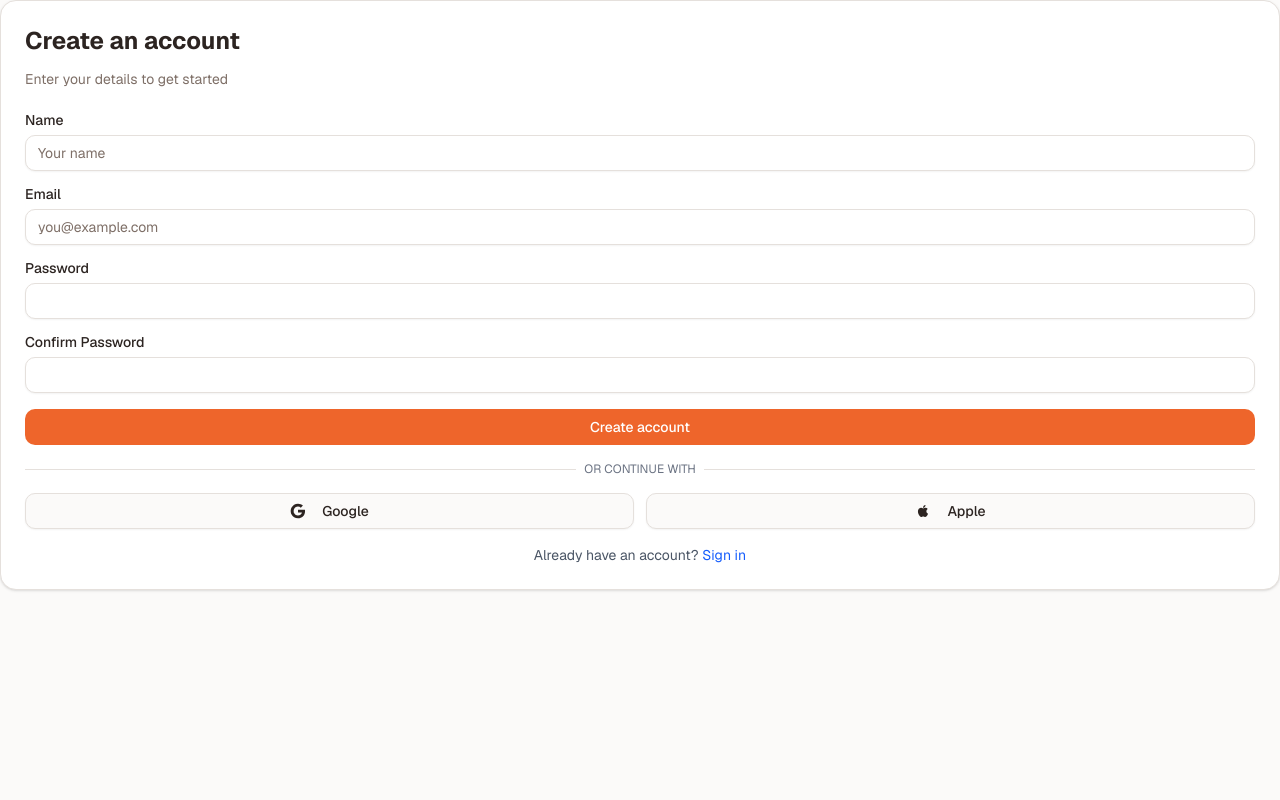
Test: RegisterPage › validates passwords match
In the field labelled "Name": (640, 153) [25,135,1255,171], type "Test User"
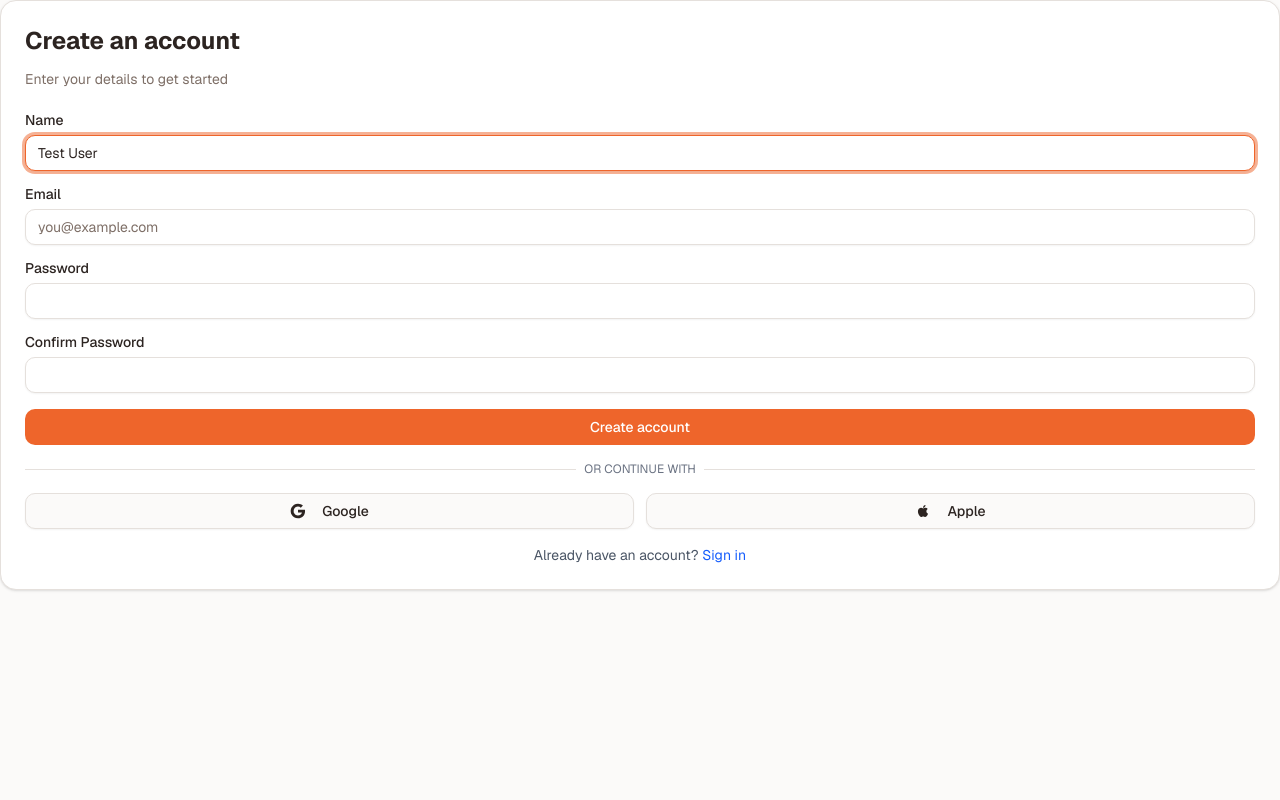
In the field labelled "Email": (640, 227) [25,209,1255,245], type "test@example.com"
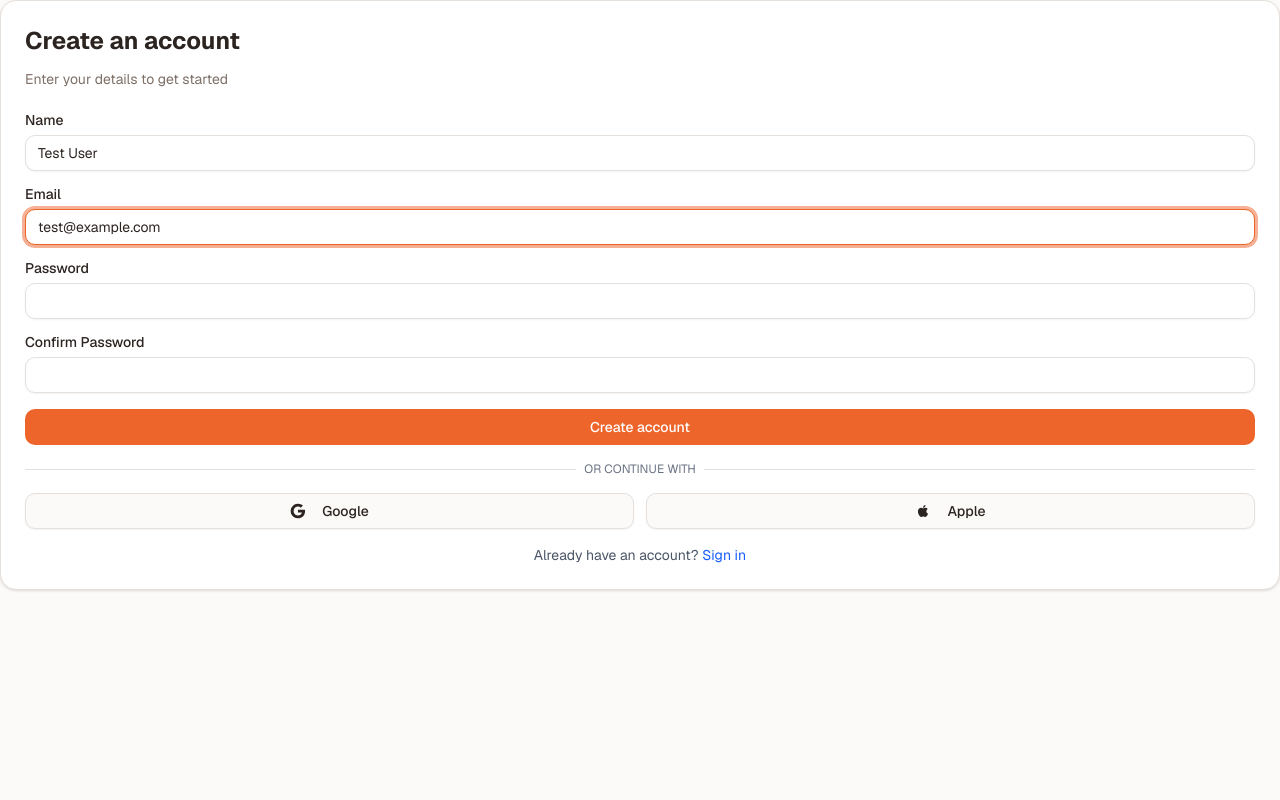
In the password field labelled "Password": (640, 301) [25,283,1255,319], type "password123"
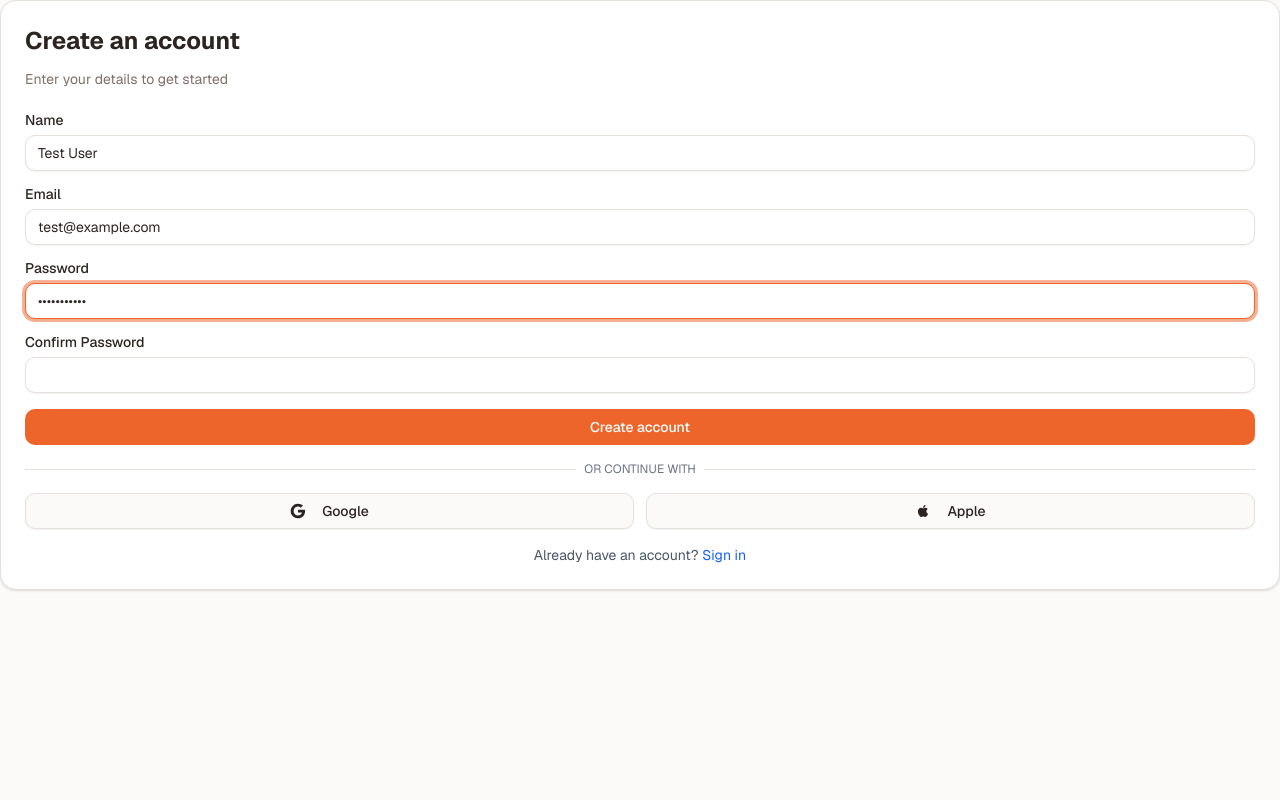
In the password field labelled "Confirm Password": (640, 375) [25,357,1255,393], type "differentpassword"
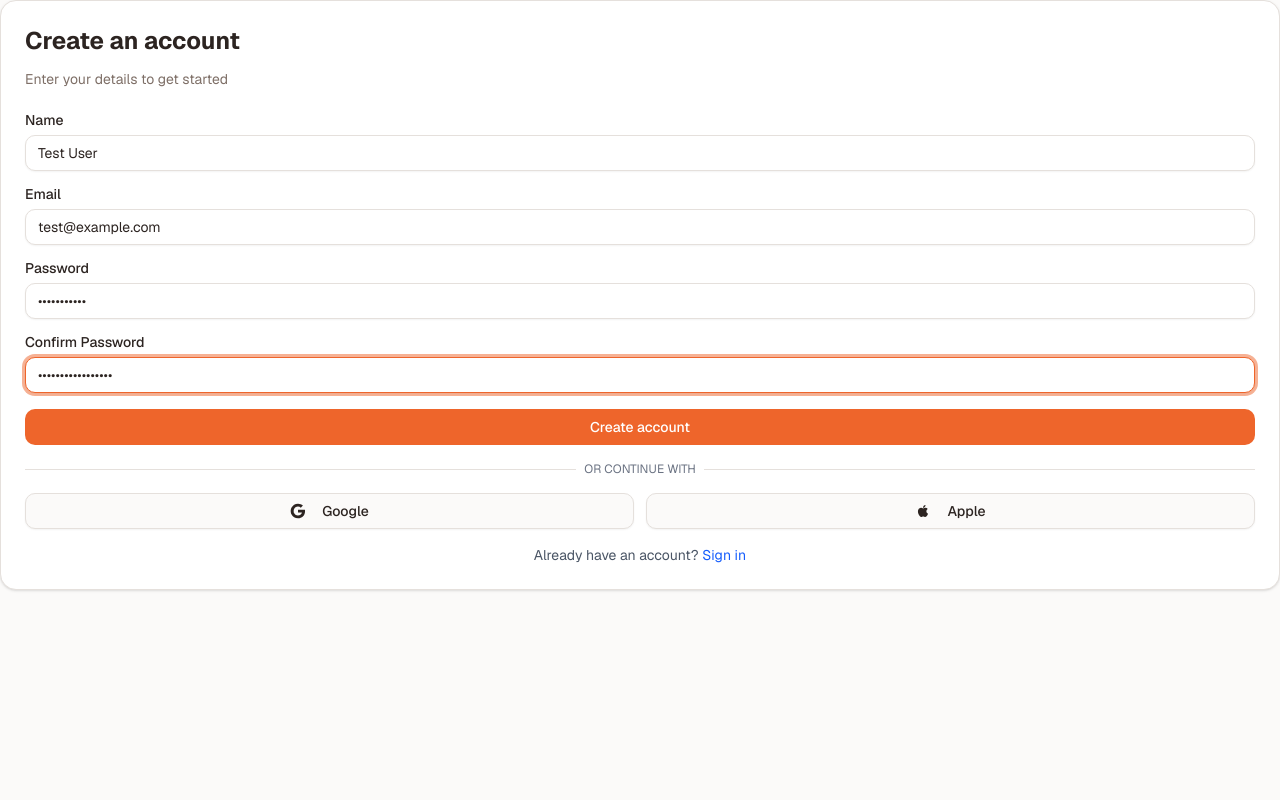
Click the button "Create account": click(640, 427) [25,409,1255,445]
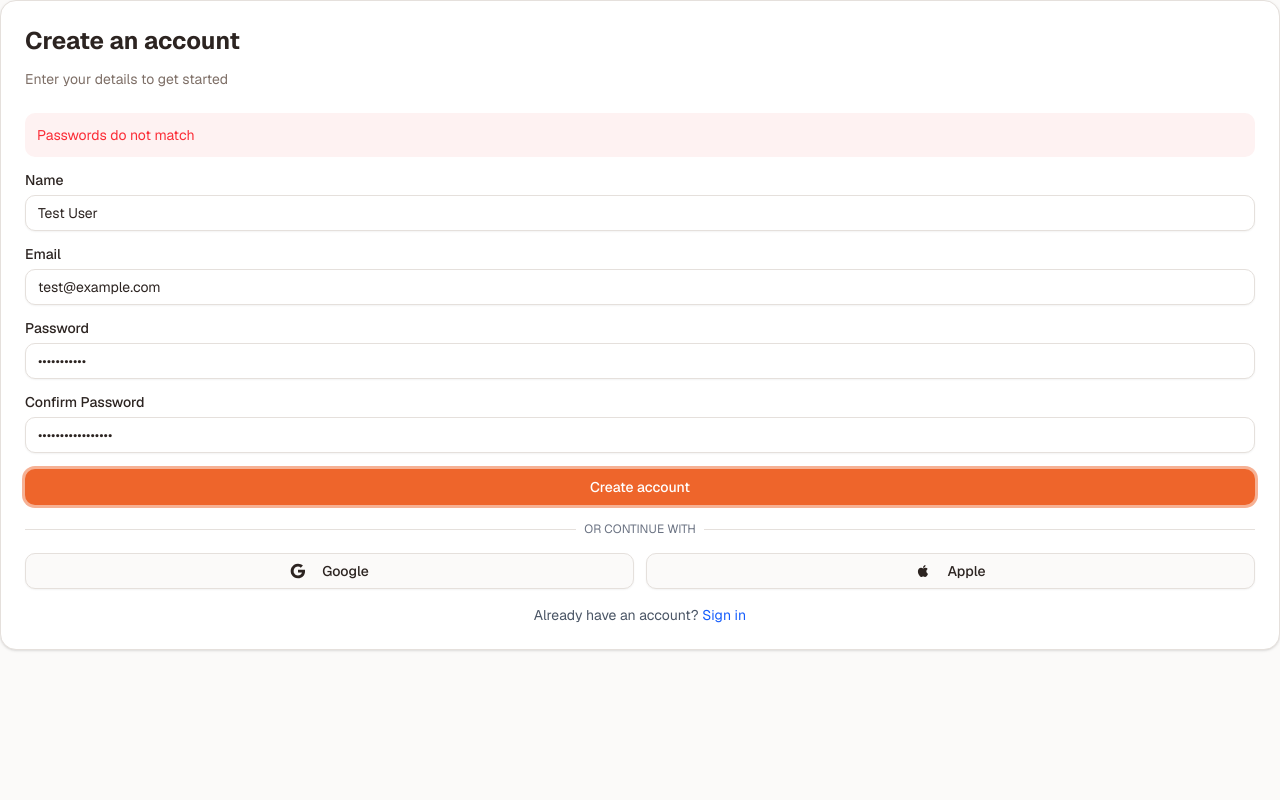
Check: the text "Passwords do not match" is shown, box [25,113,1255,157]
